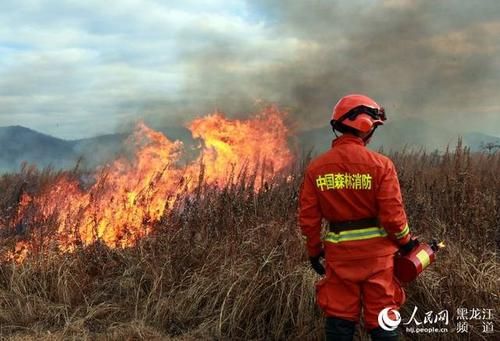fire: (29, 116, 288, 246)
